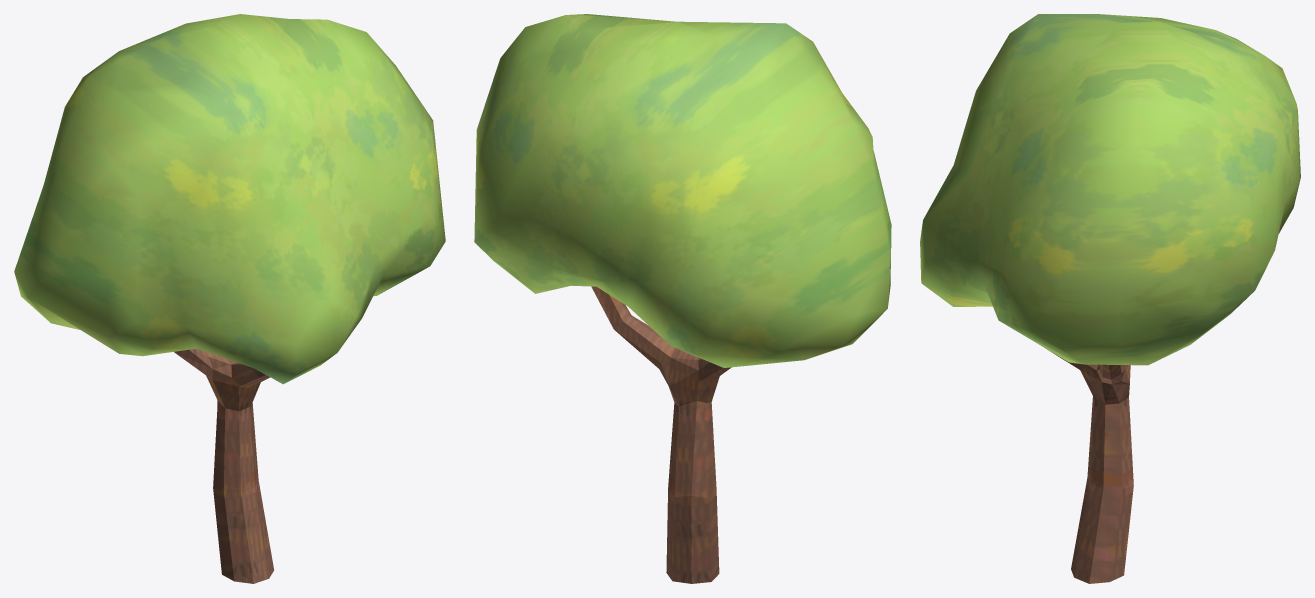
The model's file is tree3.fbx.
The picture shows the model from 3 angles, left to right: view 1: azimuth 30°, elevation 25°; view 2: azimuth 150°, elevation 25°; view 3: azimuth 270°, elevation 25°; orthographic projection. The views are drawn at different scales.
Visible parts, largest first — view 1: tree3; view 2: tree3; view 3: tree3.
Part boxes in pixels (x1,y1,x2,y2): tree3: (14,14,445,583); tree3: (474,14,891,583); tree3: (920,14,1300,583).
Size of the model in its own units: 382 by 500 by 316.
